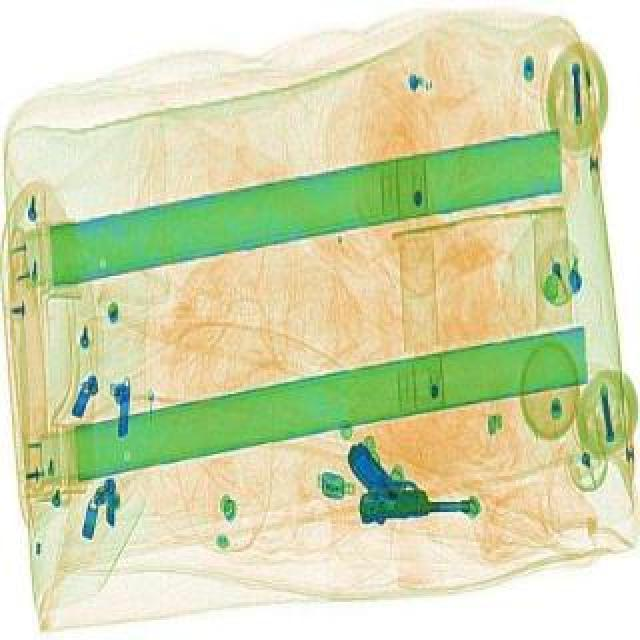gun: (344, 438, 484, 518)
